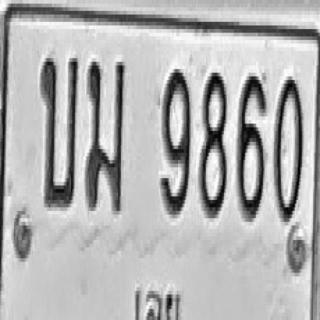A26: (40, 44, 79, 226)
A33: (81, 50, 128, 235)
